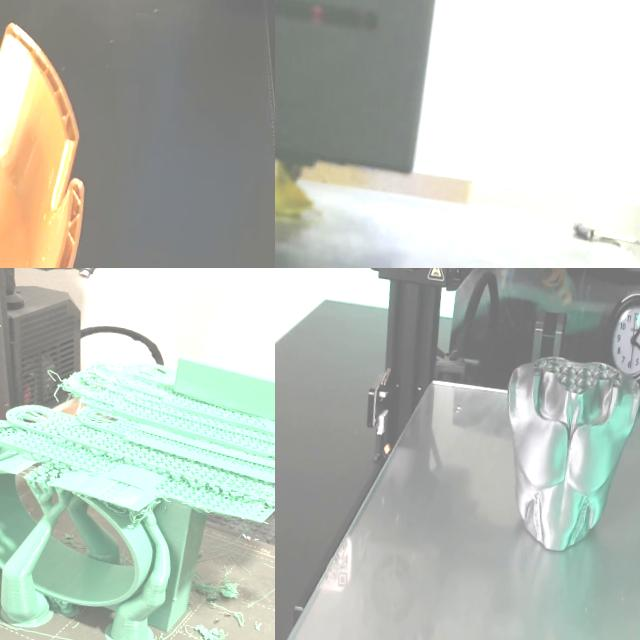spaghetti: (275, 165, 320, 230), (190, 578, 250, 613), (44, 364, 86, 402), (183, 619, 236, 640)
